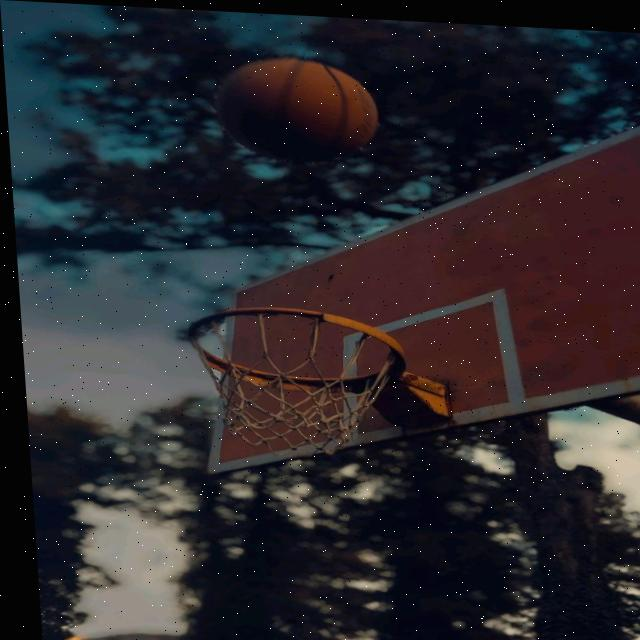hoop: (169, 305, 434, 478)
